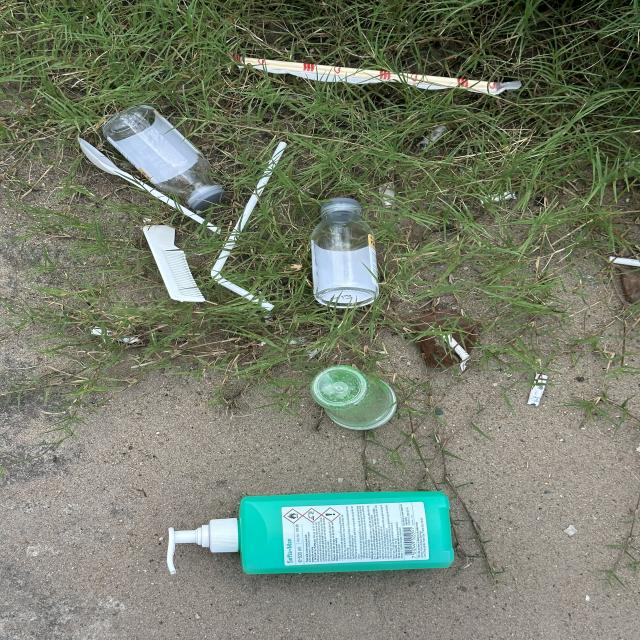bottle: (167, 492, 454, 575), (103, 106, 225, 209), (314, 198, 380, 305)
drinking straw: (213, 140, 286, 310)
plastic glass: (311, 364, 397, 431)
plastic utensil: (80, 138, 222, 236)
